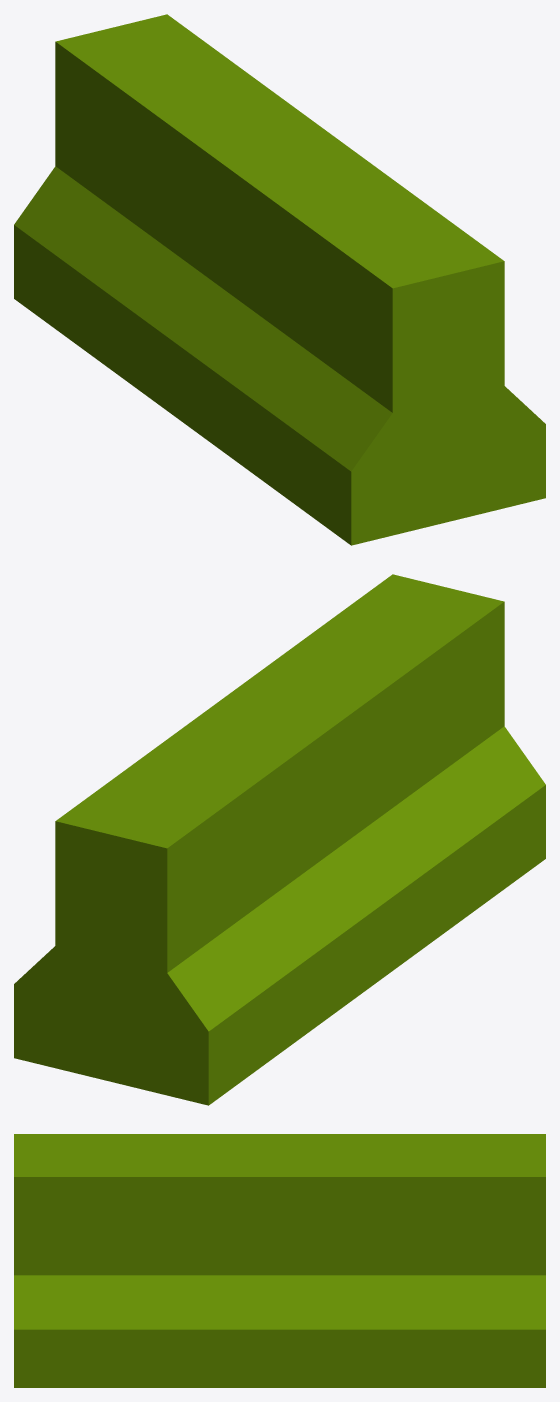
Rendered from SM_Barriere1.fbx.
3 views of the same model, one above another, from view 1: azimuth 30°, elevation 25°; view 2: azimuth 150°, elevation 25°; view 3: azimuth 270°, elevation 25° (orthographic). The views are drawn at different scales.
Visible parts, largest first — view 1: Barriere1; view 2: Barriere1; view 3: Barriere1.
Boxes of the visible parts, box(x1,y1,x2,y2) form: Barriere1: box(14, 14, 545, 545); Barriere1: box(14, 574, 545, 1105); Barriere1: box(14, 1134, 545, 1387).
Size of the model in its own units: 50 by 60.63 by 150.
